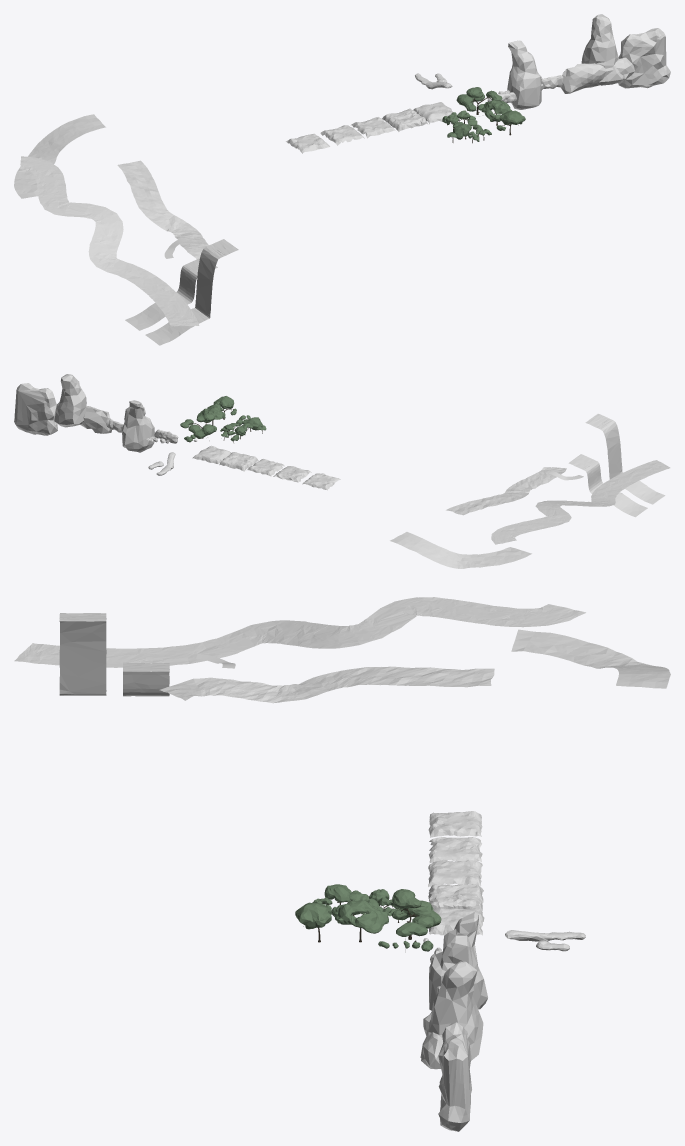
Rendered from Enviroment.fbx.
3 views of the same model, one above another, from view 1: azimuth 30°, elevation 25°; view 2: azimuth 150°, elevation 25°; view 3: azimuth 270°, elevation 25° (orthographic). The views are drawn at different scales.
Parts seen in each view (by area): view 1: River 2, River, Large Cliff 2, Large Waterfall, River 3, Large Rock 1, Large Rock 2, Large Cliff 1, Small Water Fall, Ground 2, Large Jungle Tree 1, Ground 3 (+3 smaller); view 2: River 2, River 3, Large Cliff 2, Large Waterfall, River, Large Rock 1, Large Rock 2, Small Water Fall, Large Cliff 1, Large Jungle Tree 1, Ground 2, Ground 1 (+3 smaller); view 3: River 2, River, Large Waterfall, River 3, Large Cliff 2, Large Rock 2, Large Rock 1, Large Jungle Tree 1, Small Water Fall, Ground 2, Ground 5, Ground 3 (+4 smaller).
Part boxes in pixels (x1,y1,x2,y2): River 2: [20, 156, 199, 326]; River: [117, 160, 208, 258]; Large Cliff 2: [618, 28, 670, 88]; Large Waterfall: [145, 239, 238, 345]; River 3: [14, 114, 105, 198]; Large Rock 1: [507, 40, 541, 109]; Large Rock 2: [581, 14, 622, 85]; Large Cliff 1: [560, 57, 634, 93]; Small Water Fall: [125, 258, 217, 330]; Ground 2: [382, 108, 428, 131]; Large Jungle Tree 1: [456, 87, 502, 114]; Ground 3: [351, 117, 395, 138]; River 2: [491, 460, 670, 544]; River 3: [390, 532, 531, 568]; Large Cliff 2: [14, 383, 57, 435]; Large Waterfall: [585, 413, 665, 504]; River: [446, 467, 566, 515]; Large Rock 1: [122, 400, 154, 452]; Large Rock 2: [54, 374, 86, 427]; Small Water Fall: [568, 454, 647, 517]; Large Cliff 1: [56, 402, 111, 433]; Large Jungle Tree 1: [180, 413, 216, 438]; Ground 2: [219, 452, 258, 471]; Ground 1: [192, 445, 230, 463]; River 2: [14, 597, 585, 667]; River: [159, 666, 494, 703]; Large Waterfall: [59, 613, 106, 695]; River 3: [511, 629, 670, 688]; Large Cliff 2: [438, 1022, 471, 1131]; Large Rock 2: [420, 961, 483, 1060]; Large Rock 1: [429, 911, 487, 1010]; Large Jungle Tree 1: [392, 889, 441, 939]; Small Water Fall: [123, 662, 169, 696]; Ground 2: [428, 884, 483, 910]; Ground 5: [428, 811, 482, 837]; Ground 3: [428, 859, 482, 886].
Bounding box in the file's own units: 90841 × 13183 × 51965.
